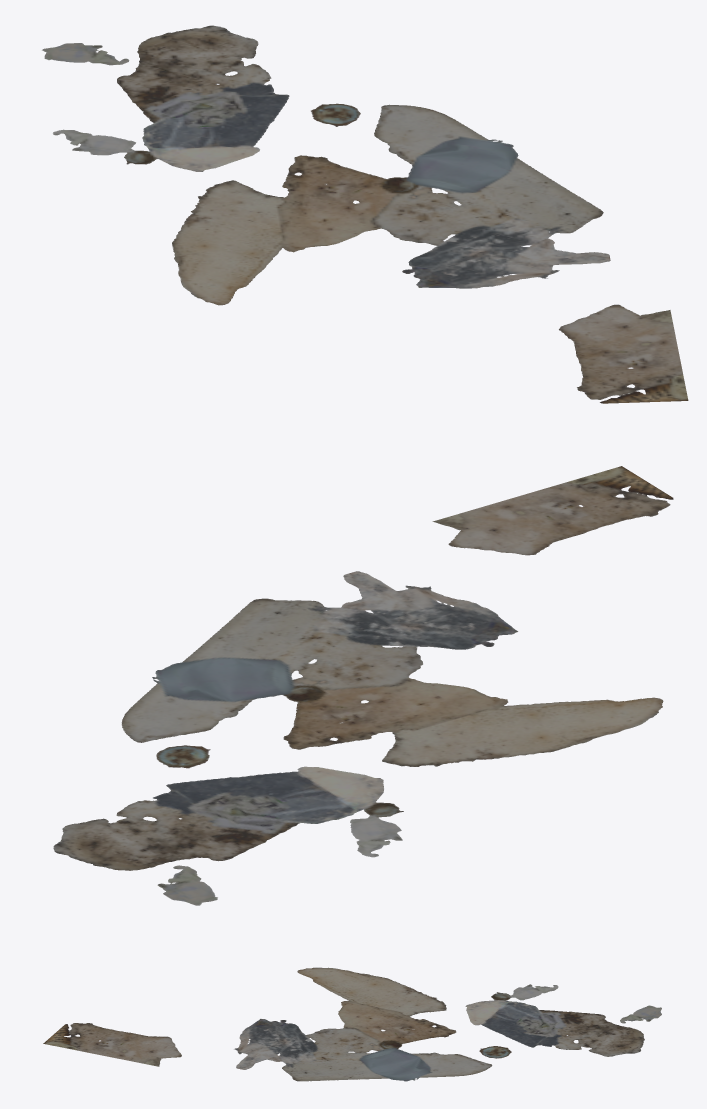
File: SM_Debris_04.fbx
3 renders of one model, top to bottom at view 1: azimuth 30°, elevation 25°; view 2: azimuth 150°, elevation 25°; view 3: azimuth 270°, elevation 25°, orthographic. The views are drawn at different scales.
Parts seen in each view (by area): view 1: SM_Debris_04_LOD0; view 2: SM_Debris_04_LOD0; view 3: SM_Debris_04_LOD0.
Part boxes in pixels (x1,y1,x2,y2): SM_Debris_04_LOD0: [42, 25, 688, 403]; SM_Debris_04_LOD0: [53, 466, 673, 905]; SM_Debris_04_LOD0: [43, 967, 661, 1081].
Bounding box in the file's own units: 42.07 × 86.43 × 1.85e-06.
